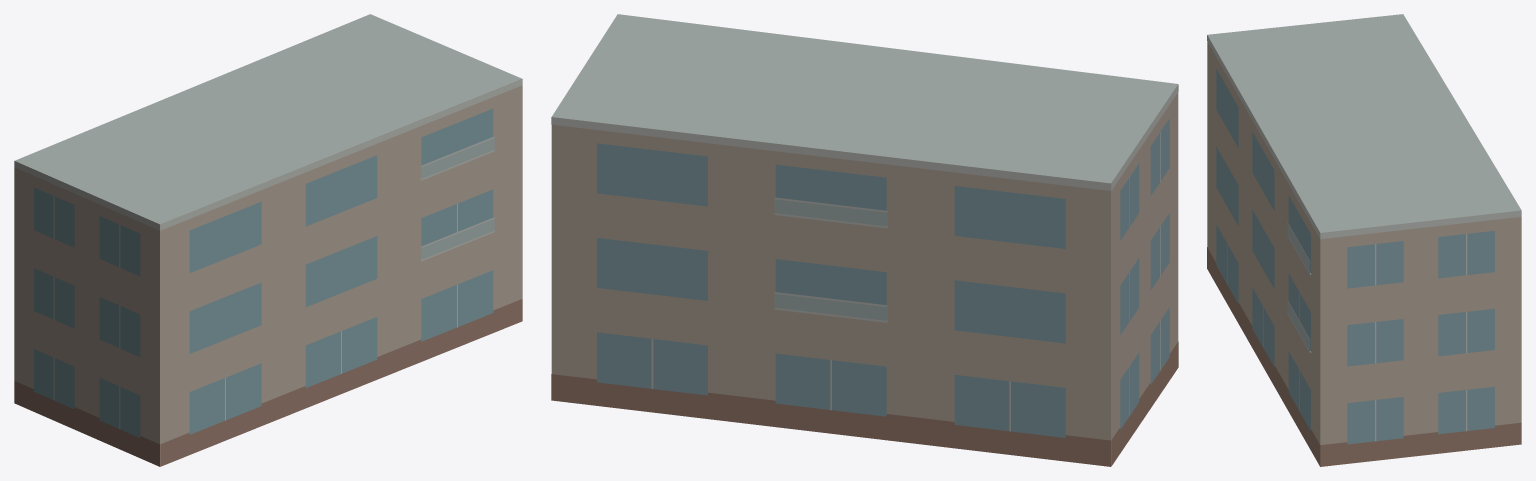
File: survey-upis-32610120.glb
3 renders of one model, left to right at view 1: azimuth 30°, elevation 25°; view 2: azimuth 150°, elevation 25°; view 3: azimuth 270°, elevation 25°, orthographic. The views are drawn at different scales.
Parts seen in each view (by area): view 1: survey-upis-32610120.tmp; view 2: survey-upis-32610120.tmp; view 3: survey-upis-32610120.tmp.
Boxes of the visible parts, bbox=[...] form: survey-upis-32610120.tmp: bbox=[14, 14, 522, 466]; survey-upis-32610120.tmp: bbox=[551, 14, 1178, 466]; survey-upis-32610120.tmp: bbox=[1207, 14, 1521, 466].
Bounding box in the file's own units: 18.38 × 9.15 × 11.16.
